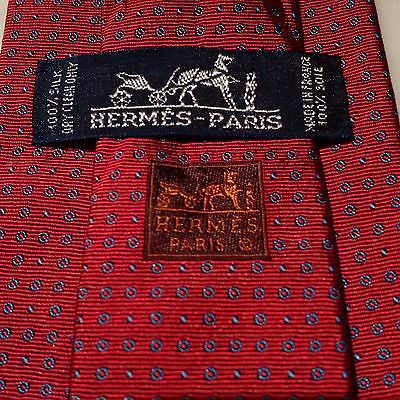HERMES: (86, 53, 288, 134)
